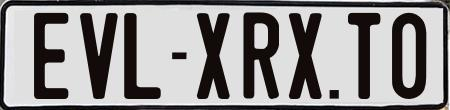0: (392, 10, 432, 100)
E: (31, 12, 67, 104)
L: (122, 10, 159, 100)
R: (241, 9, 283, 101)
T: (347, 13, 382, 104)
V: (77, 11, 119, 101)
X: (286, 11, 324, 99), (194, 10, 227, 97)
